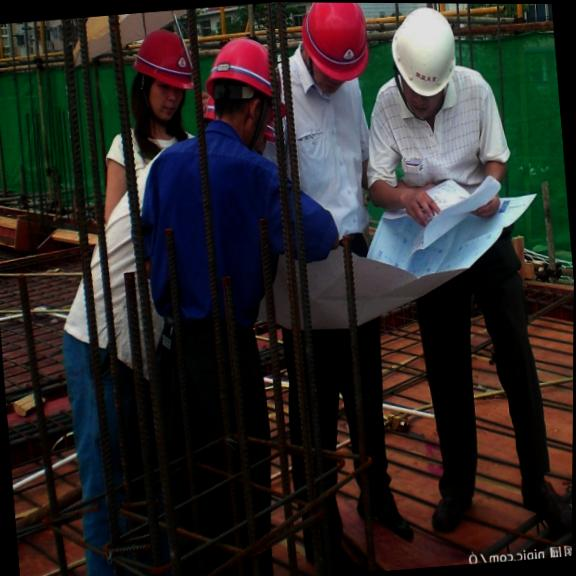no_safety_vest: (142, 146, 289, 341), (372, 81, 512, 253), (280, 78, 382, 256), (72, 124, 196, 220)
